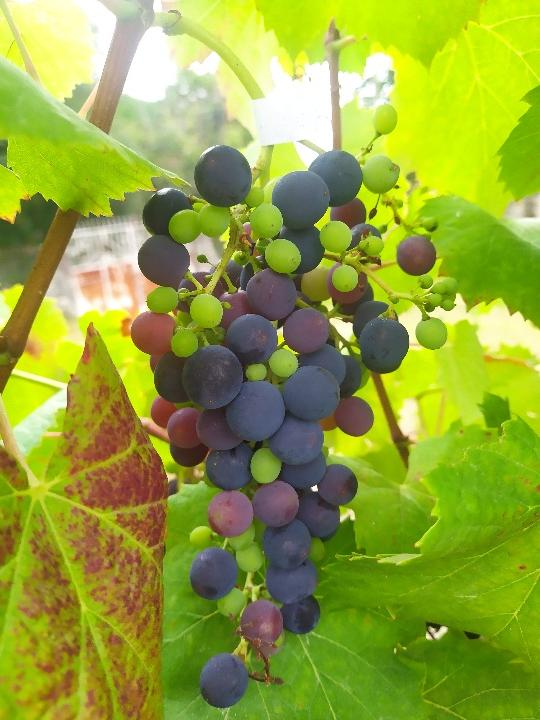grape: (126, 99, 460, 712)
